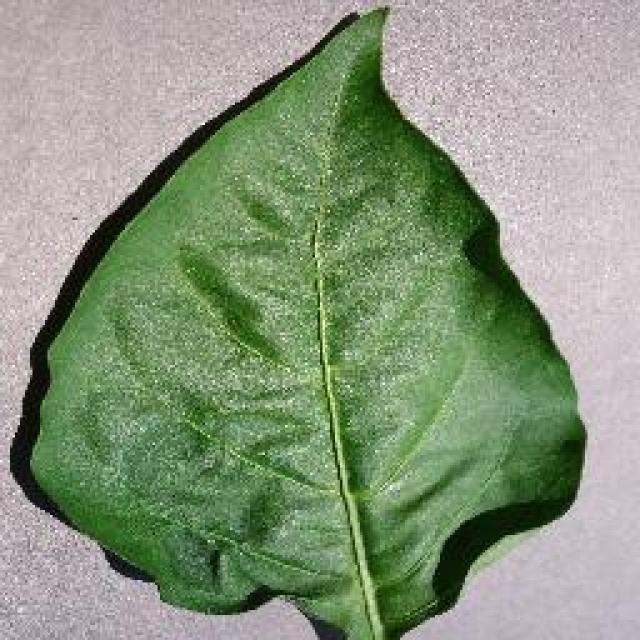Leaf: (159, 182, 414, 503), (21, 302, 148, 516), (209, 525, 505, 611), (284, 25, 427, 138)
